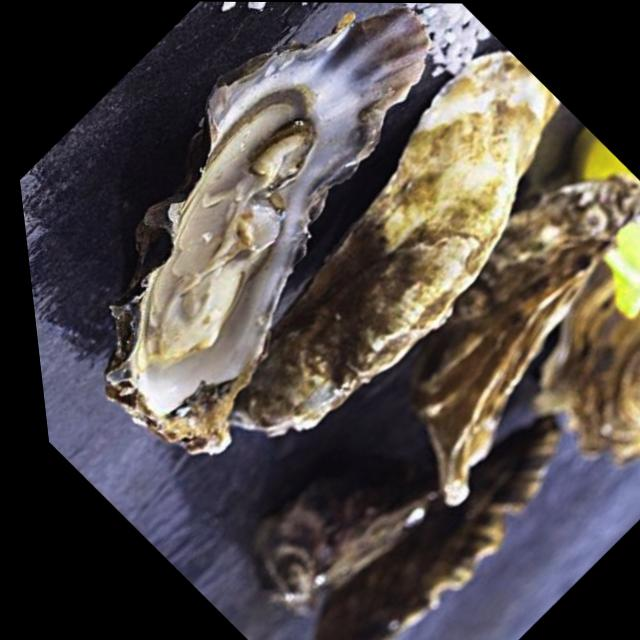Oyster-Indeterminate: (233, 48, 552, 435), (411, 174, 640, 508), (312, 421, 560, 640), (251, 429, 442, 615), (535, 260, 640, 468)
Oyster-Open: (107, 5, 452, 449)
